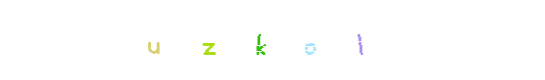K: (220, 0, 300, 80)
L: (292, 0, 372, 80)
O: (232, 0, 312, 80)
U: (141, 0, 221, 80)
Z: (171, 0, 251, 80)
